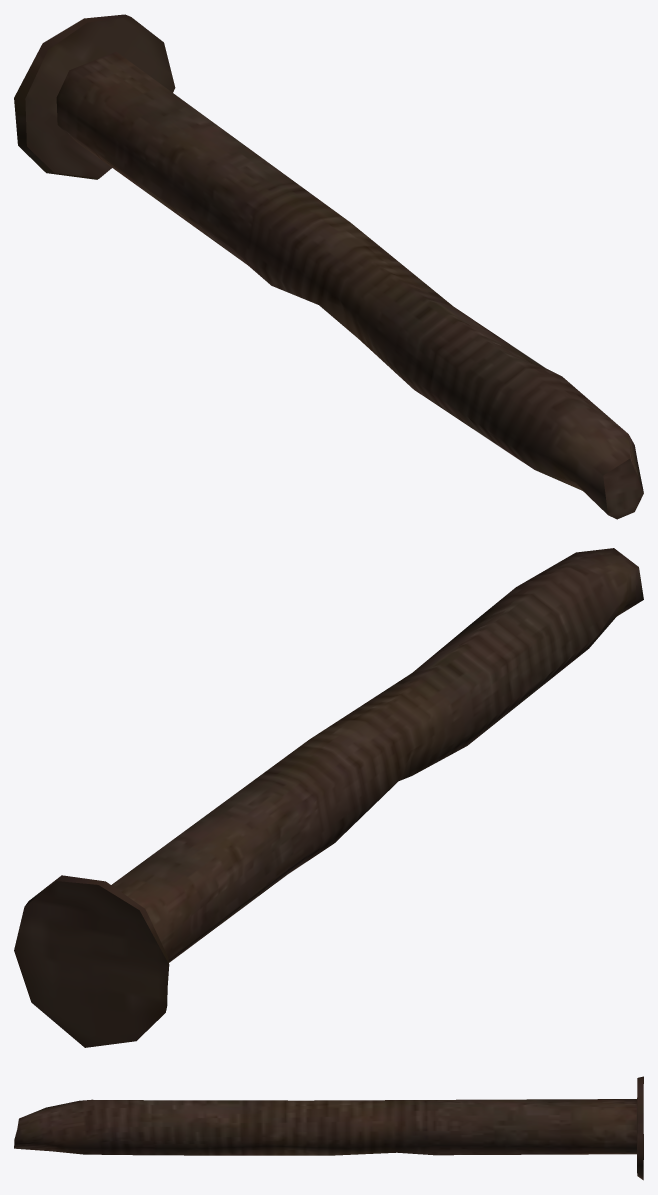
The model's file is nail.worldmodel.glb.
3 views of the same model, one above another, from view 1: azimuth 30°, elevation 25°; view 2: azimuth 150°, elevation 25°; view 3: azimuth 270°, elevation 25° (orthographic). The views are drawn at different scales.
Parts seen in each view (by area): view 1: nail_LOD0; view 2: nail_LOD0; view 3: nail_LOD0.
Part boxes in pixels (x1,y1,x2,y2): nail_LOD0: (14,14,643,519); nail_LOD0: (14,548,643,1047); nail_LOD0: (14,1076,643,1180).
Size of the model in its own units: 0.0285 by 0.0288 by 0.1689.
Materials: 1 (1 with a texture image).
